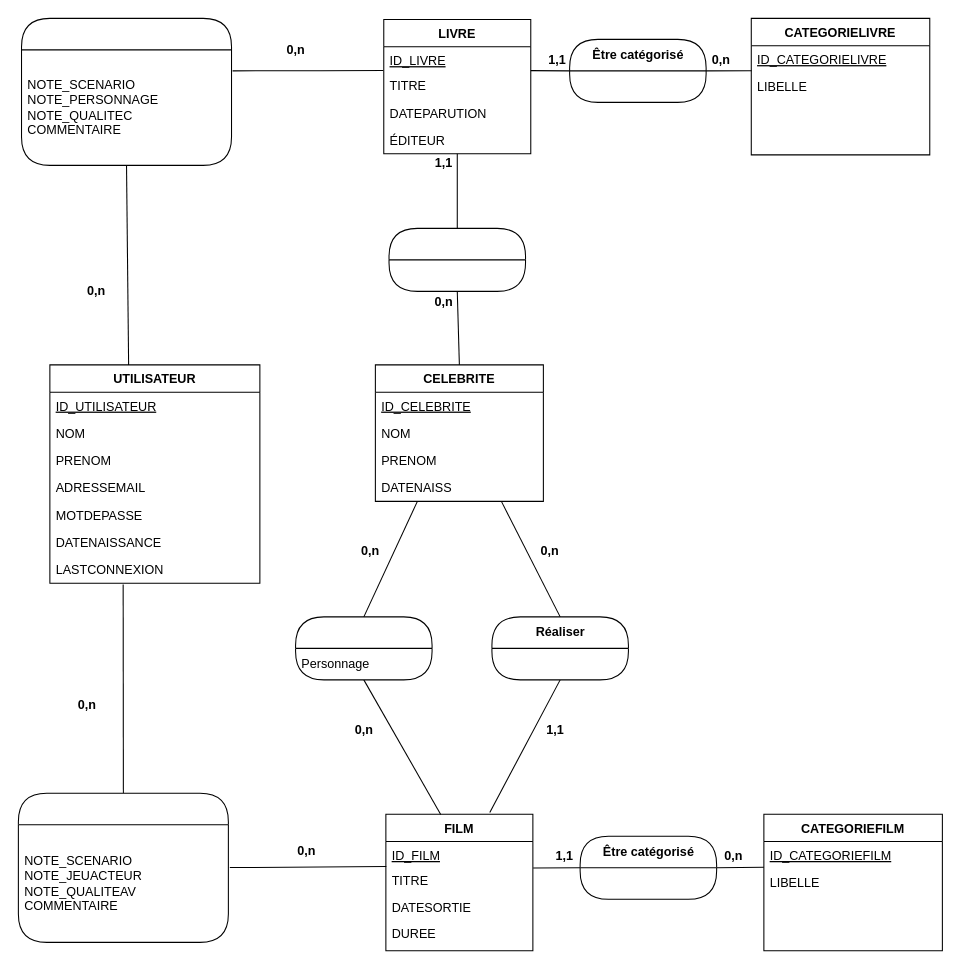
Some shapes in this 961 by 972 pixel diagram are drawn without their labels. Here are the shapes that lost their labels. From the top down, the box of each, then its label:
(20, 17, 232, 165): Noter Livre
(388, 227, 526, 291): Écrire
(295, 616, 432, 680): Jouer un rôle
(17, 792, 228, 942): Noter Film
